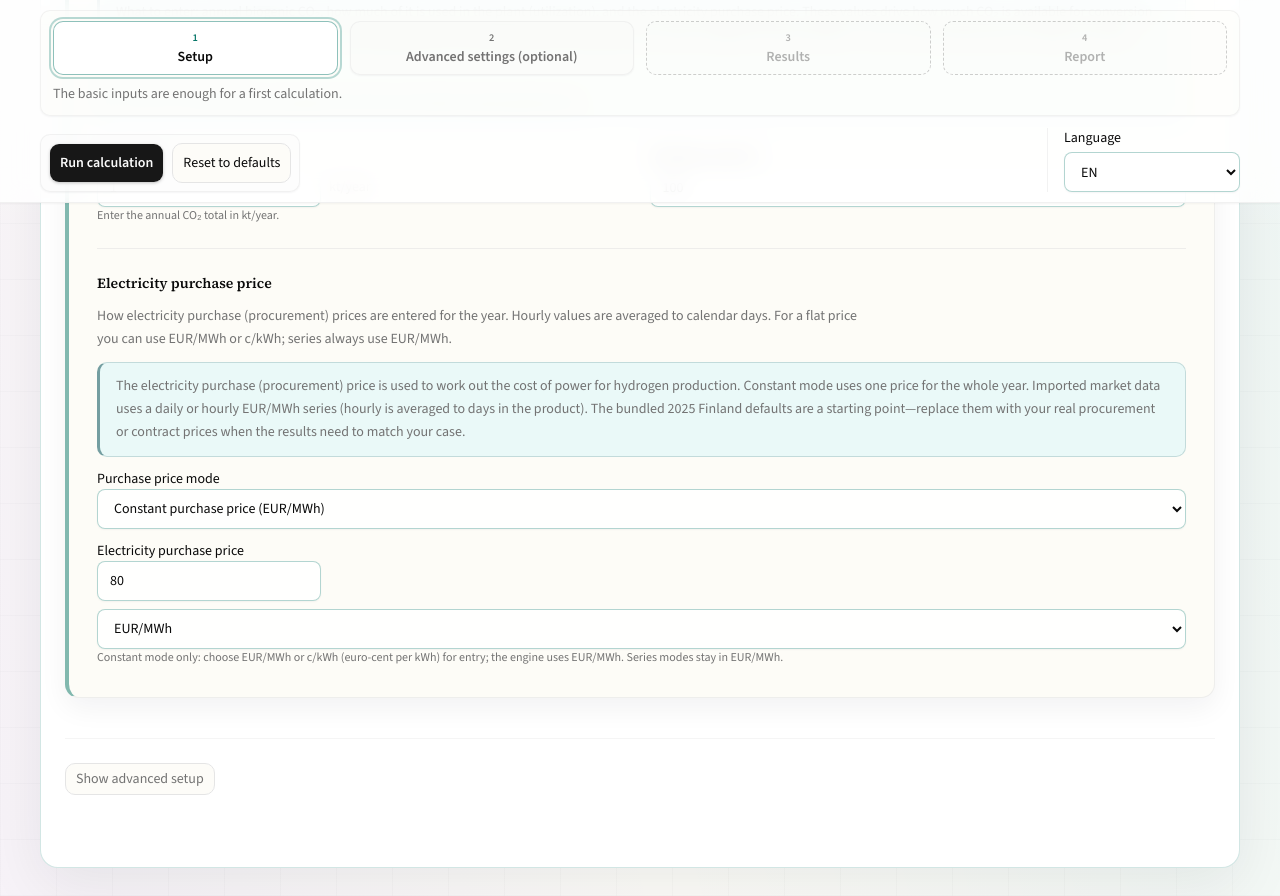
Test: WP21 – commercial default price verify hints (UI) › shows default-verify hints for methane and hydrogen on initial load
(page scrolled)
Expected: the button "Run calculation" is shown, x1=49 y1=143 x2=164 y2=183
Click the button with test id "toggle-advanced-setup" at (140, 779), box x1=65 y1=763 x2=215 y2=795
(page scrolled)
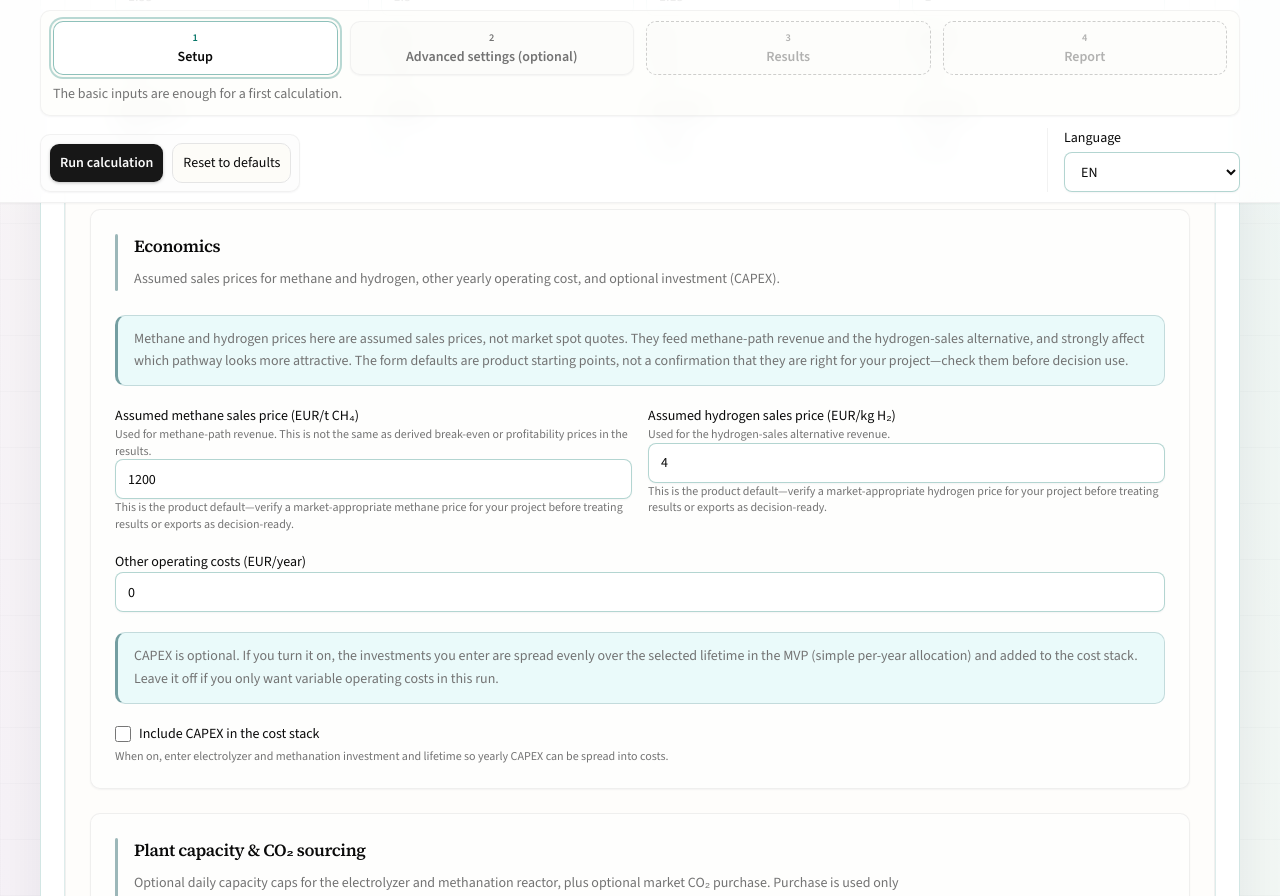
Expected: the text with test id "economics-methane-default-verify-hint" is shown, x1=115 y1=499 x2=623 y2=532
Expected: the text with test id "economics-hydrogen-default-verify-hint" is shown, x1=648 y1=483 x2=1158 y2=515
